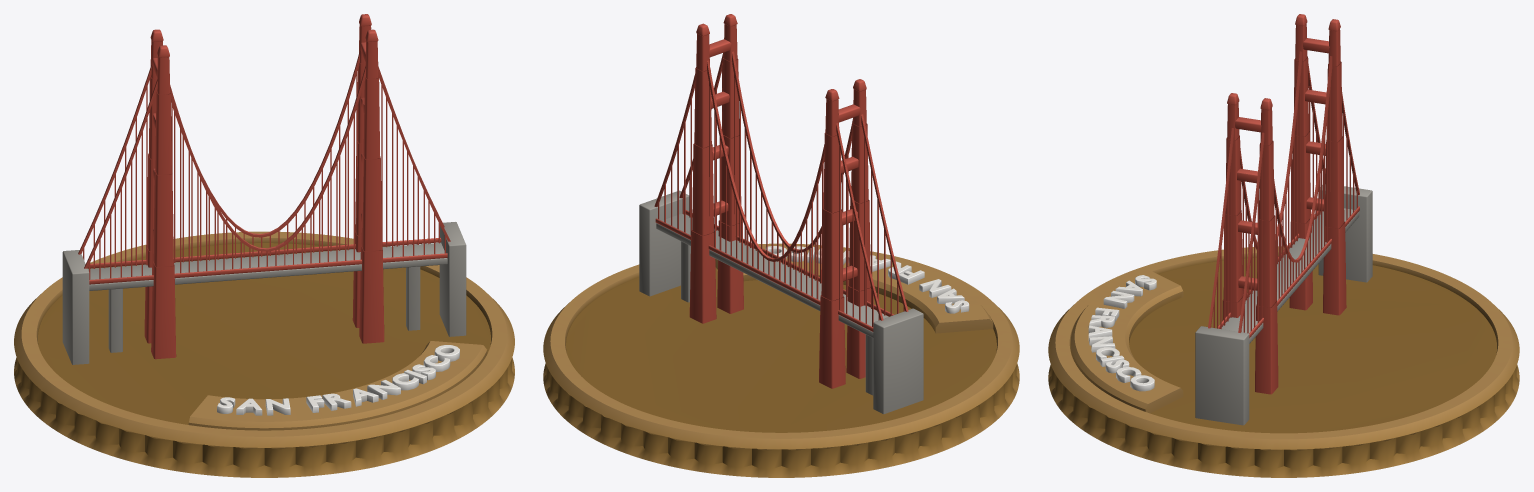
File: city_bundle_san_francisco.glb
The picture shows the model from 3 angles, left to right: view 1: azimuth 30°, elevation 25°; view 2: azimuth 150°, elevation 25°; view 3: azimuth 270°, elevation 25°; orthographic projection. The views are drawn at different scales.
Parts seen in each view (by area): view 1: Plinth_Body, GoldenGate_Towers, GoldenGate_Deck, GoldenGate_Cables, Plinth_Nameplate, Plinth_Text_SAN_FRANCISCO; view 2: Plinth_Body, GoldenGate_Towers, GoldenGate_Deck, GoldenGate_Cables, Plinth_Nameplate, Plinth_Text_SAN_FRANCISCO; view 3: Plinth_Body, GoldenGate_Towers, GoldenGate_Deck, GoldenGate_Cables, Plinth_Nameplate, Plinth_Text_SAN_FRANCISCO.
Boxes of the visible parts, <box> form: Plinth_Body: <box>14,231,514,477</box>; GoldenGate_Towers: <box>144,14,384,359</box>; GoldenGate_Deck: <box>62,222,466,364</box>; GoldenGate_Cables: <box>78,52,450,279</box>; Plinth_Nameplate: <box>188,341,487,430</box>; Plinth_Text_SAN_FRANCISCO: <box>217,345,459,415</box>; Plinth_Body: <box>543,243,1019,477</box>; GoldenGate_Towers: <box>689,14,870,388</box>; GoldenGate_Deck: <box>639,190,923,414</box>; GoldenGate_Cables: <box>654,51,908,326</box>; Plinth_Nameplate: <box>715,245,993,333</box>; Plinth_Text_SAN_FRANCISCO: <box>765,246,969,313</box>; Plinth_Body: <box>1048,246,1519,477</box>; GoldenGate_Towers: <box>1222,14,1346,394</box>; GoldenGate_Deck: <box>1195,184,1372,425</box>; GoldenGate_Cables: <box>1208,51,1359,333</box>; Plinth_Nameplate: <box>1071,269,1183,413</box>; Plinth_Text_SAN_FRANCISCO: <box>1088,275,1156,391</box>.
Bounding box in the file's own units: 1.99 × 1.51 × 1.99.
